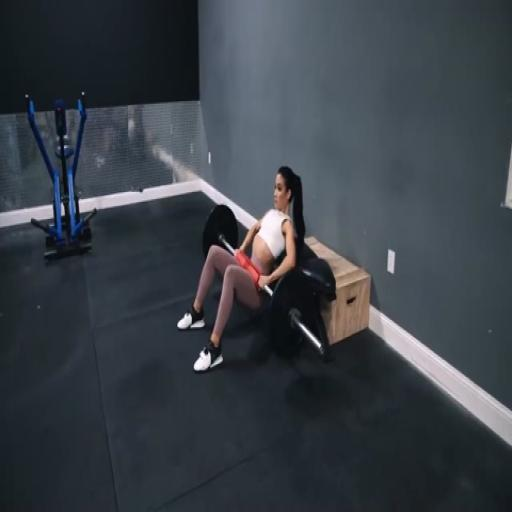exercise: (174, 164, 308, 376)
